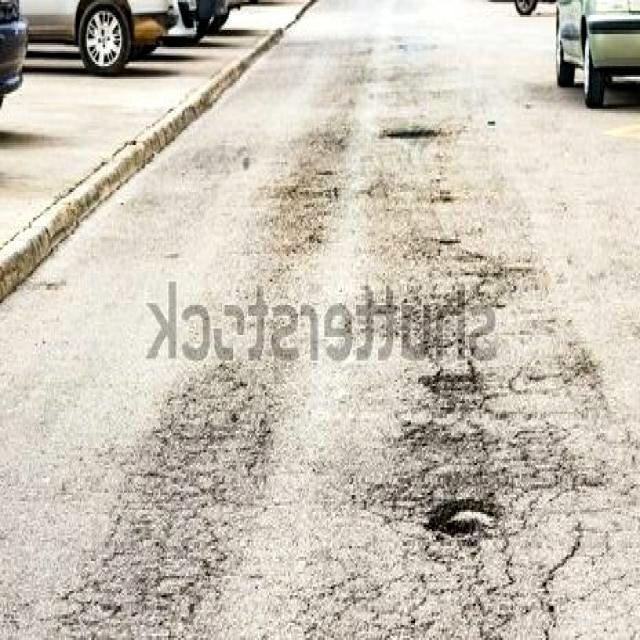Pothole: (425, 493, 503, 542), (378, 119, 444, 143)
